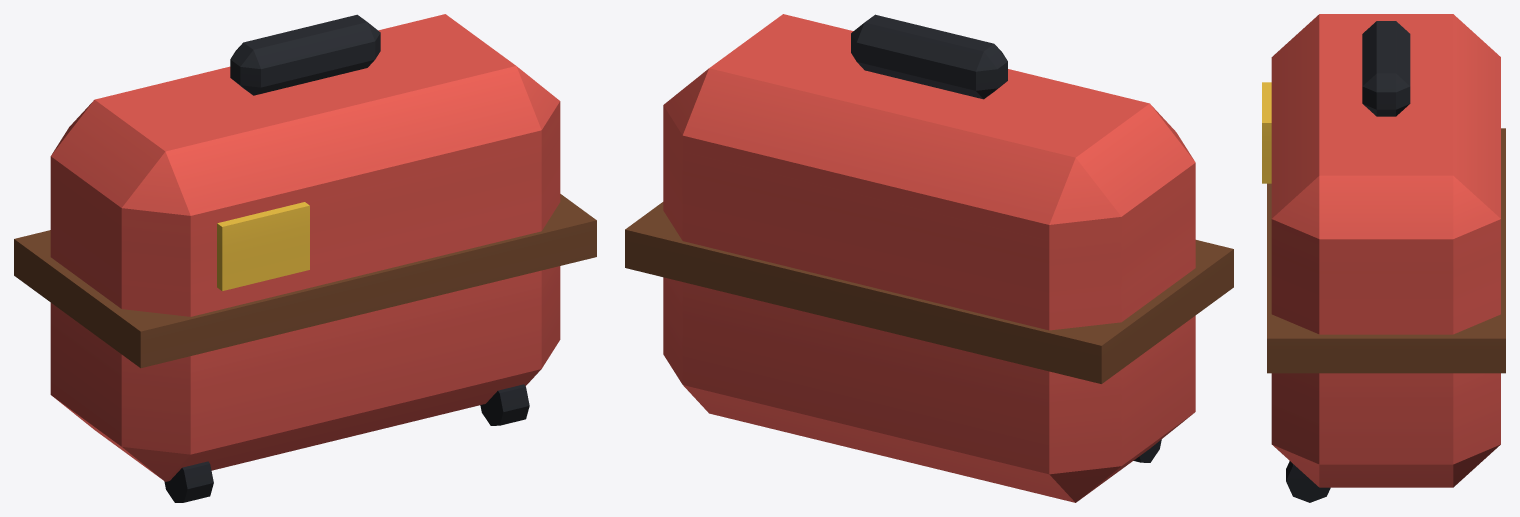
The model's file is Mala.glb.
The picture shows the model from 3 angles, left to right: view 1: azimuth 30°, elevation 25°; view 2: azimuth 150°, elevation 25°; view 3: azimuth 270°, elevation 25°; orthographic projection. The views are drawn at different scales.
Visible parts, largest first — view 1: Mala_Malha; view 2: Mala_Malha; view 3: Mala_Malha.
Boxes of the visible parts, x1,y1,x2,y2 form: Mala_Malha: (14,14,596,502); Mala_Malha: (625,14,1233,502); Mala_Malha: (1262,14,1505,502).
Bounding box in the file's own units: 0.52 × 0.435 × 0.255.
1 material, 1 textured.
